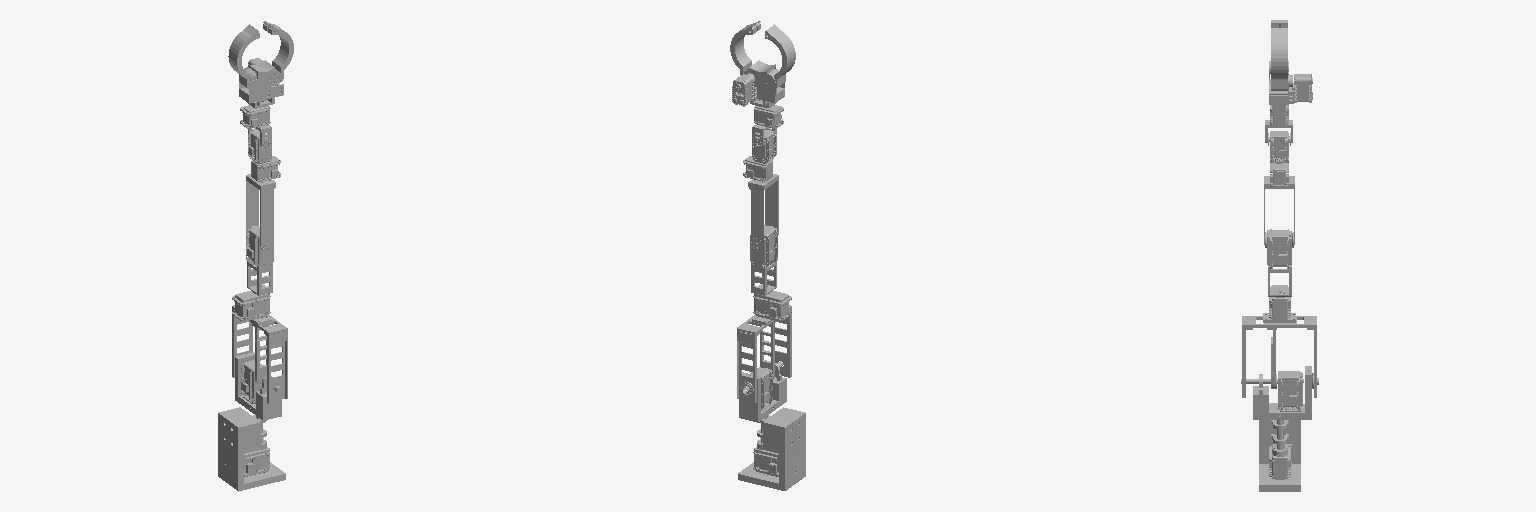
robot.urdf — finalarm_description:
<robot
  name="finalarm_description">
  <link
    name="base_link">
    <inertial>
      <origin
        xyz="-0.0350973236171887 2.50206915783369E-06 0.065743599294131"
        rpy="0 0 0" />
      <mass
        value="1.10920648420033" />
      <inertia
        ixx="0.00147297997205269"
        ixy="5.79000298723505E-08"
        ixz="0.000465603614160417"
        iyy="0.00175551330106355"
        iyz="8.3367086911193E-08"
        izz="0.000282540363613262" />
    </inertial>
    <visual>
      <origin
        xyz="0 0 0"
        rpy="0 0 0" />
      <geometry>
        <mesh
          filename="package://finalarm_description/meshes/base_link.STL" />
      </geometry>
      <material
        name="">
        <color
          rgba="0.752941176470588 0.752941176470588 0.752941176470588 1" />
      </material>
    </visual>
    <collision>
      <origin
        xyz="0 0 0"
        rpy="0 0 0" />
      <geometry>
        <mesh
          filename="package://finalarm_description/meshes/base_link.STL" />
      </geometry>
    </collision>
  </link>
  <link
    name="link_2">
    <inertial>
      <origin
        xyz="-6.93463695862484E-06 0.00621364138420952 -0.106231333331331"
        rpy="0 0 0" />
      <mass
        value="0.471538287399183" />
      <inertia
        ixx="0.000594636803033852"
        ixy="4.18367904578793E-08"
        ixz="2.84400874159916E-08"
        iyy="0.000252468984748607"
        iyz="0.000138585143141858"
        izz="0.000342180686752844" />
    </inertial>
    <visual>
      <origin
        xyz="0 0 0"
        rpy="0 0 0" />
      <geometry>
        <mesh
          filename="package://finalarm_description/meshes/link_2.STL" />
      </geometry>
      <material
        name="">
        <color
          rgba="0.752941176470588 0.752941176470588 0.752941176470588 1" />
      </material>
    </visual>
    <collision>
      <origin
        xyz="0 0 0"
        rpy="0 0 0" />
      <geometry>
        <mesh
          filename="package://finalarm_description/meshes/link_2.STL" />
      </geometry>
    </collision>
  </link>
  <joint
    name="joint_1"
    type="revolute">
    <origin
      xyz="0 0 0.0622"
      rpy="3.1416 0 3.1416" />
    <parent
      link="base_link" />
    <child
      link="link_2" />
    <axis
      xyz="0 0 1" />
    <limit
      lower="-3.14"
      upper="3.14"
      effort="0"
      velocity="0" />
  </joint>
  <link
    name="link_3">
    <inertial>
      <origin
        xyz="0.00793341258344955 -0.110904264599027 -0.00575400019431305"
        rpy="0 0 0" />
      <mass
        value="0.176545926561924" />
      <inertia
        ixx="0.000425424927691206"
        ixy="5.26272787508631E-05"
        ixz="2.58168360040485E-06"
        iyy="0.000154323835845121"
        iyz="-3.20603667204071E-06"
        izz="0.000292957292568659" />
    </inertial>
    <visual>
      <origin
        xyz="0 0 0"
        rpy="0 0 0" />
      <geometry>
        <mesh
          filename="package://finalarm_description/meshes/link_3.STL" />
      </geometry>
      <material
        name="">
        <color
          rgba="0.752941176470588 0.752941176470588 0.752941176470588 1" />
      </material>
    </visual>
    <collision>
      <origin
        xyz="0 0 0"
        rpy="0 0 0" />
      <geometry>
        <mesh
          filename="package://finalarm_description/meshes/link_3.STL" />
      </geometry>
    </collision>
  </link>
  <joint
    name="joint_2"
    type="revolute">
    <origin
      xyz="0 -0.00824 -0.14225"
      rpy="1.5708 0 0" />
    <parent
      link="link_2" />
    <child
      link="link_3" />
    <axis
      xyz="0 0 1" />
    <limit
      lower="-2.35"
      upper="2.35"
      effort="0"
      velocity="0" />
  </joint>
  <link
    name="link_4">
    <inertial>
      <origin
        xyz="-1.73545194991076E-06 3.75572226324616E-05 -0.0816772034389157"
        rpy="0 0 0" />
      <mass
        value="0.104087748544112" />
      <inertia
        ixx="6.93717063486783E-05"
        ixy="6.54701343252157E-12"
        ixz="-1.44623624646317E-08"
        iyy="6.93717016796198E-05"
        iyz="1.86949875679207E-08"
        izz="5.87170423433308E-09" />
    </inertial>
    <visual>
      <origin
        xyz="0 0 0"
        rpy="0 0 0" />
      <geometry>
        <mesh
          filename="package://finalarm_description/meshes/link_4.STL" />
      </geometry>
      <material
        name="">
        <color
          rgba="0.752941176470588 0.752941176470588 0.752941176470588 1" />
      </material>
    </visual>
    <collision>
      <origin
        xyz="0 0 0"
        rpy="0 0 0" />
      <geometry>
        <mesh
          filename="package://finalarm_description/meshes/link_4.STL" />
      </geometry>
    </collision>
  </link>
  <joint
    name="joint_3"
    type="revolute">
    <origin
      xyz="0 -0.1721 -0.00754"
      rpy="-1.5708 0 0" />
    <parent
      link="link_3" />
    <child
      link="link_4" />
    <axis
      xyz="0 0 1" />
    <limit
      lower="-3.14"
      upper="3.14"
      effort="0"
      velocity="0" />
  </joint>
  <link
    name="link_5">
    <inertial>
      <origin
        xyz="-0.00688423968276193 0.114612027416276 -0.000499999595380635"
        rpy="0 0 0" />
      <mass
        value="0.0763995324256172" />
      <inertia
        ixx="8.29546143352217E-05"
        ixy="1.14091706441386E-05"
        ixz="-1.59199761034349E-08"
        iyy="4.00141503682598E-06"
        iyz="-7.48281114065265E-13"
        izz="8.32476026046573E-05" />
    </inertial>
    <visual>
      <origin
        xyz="0 0 0"
        rpy="0 0 0" />
      <geometry>
        <mesh
          filename="package://finalarm_description/meshes/link_5.STL" />
      </geometry>
      <material
        name="">
        <color
          rgba="0.752941176470588 0.752941176470588 0.752941176470588 1" />
      </material>
    </visual>
    <collision>
      <origin
        xyz="0 0 0"
        rpy="0 0 0" />
      <geometry>
        <mesh
          filename="package://finalarm_description/meshes/link_5.STL" />
      </geometry>
    </collision>
  </link>
  <joint
    name="joint_4"
    type="revolute">
    <origin
      xyz="0 0 -0.11"
      rpy="-1.5708 0 0" />
    <parent
      link="link_4" />
    <child
      link="link_5" />
    <axis
      xyz="0 0 -1" />
    <limit
      lower="-2.6"
      upper="2.6"
      effort="0"
      velocity="0" />
  </joint>
  <link
    name="link_6">
    <inertial>
      <origin
        xyz="1.38984233255535E-05 -3.02219879037557E-05 -0.0318489971663578"
        rpy="0 0 0" />
      <mass
        value="0.0455105599924779" />
      <inertia
        ixx="1.81847622671867E-06"
        ixy="-1.91108318783744E-11"
        ixz="-1.66843283355986E-08"
        iyy="1.81917584885151E-06"
        iyz="-1.98071025204659E-09"
        izz="7.0394766986178E-10" />
    </inertial>
    <visual>
      <origin
        xyz="0 0 0"
        rpy="0 0 0" />
      <geometry>
        <mesh
          filename="package://finalarm_description/meshes/link_6.STL" />
      </geometry>
      <material
        name="">
        <color
          rgba="0.752941176470588 0.752941176470588 0.752941176470588 1" />
      </material>
    </visual>
    <collision>
      <origin
        xyz="0 0 0"
        rpy="0 0 0" />
      <geometry>
        <mesh
          filename="package://finalarm_description/meshes/link_6.STL" />
      </geometry>
    </collision>
  </link>
  <joint
    name="joint_5"
    type="revolute">
    <origin
      xyz="0 0.1566 -0.0005"
      rpy="-1.5708 0 3.1416" />
    <parent
      link="link_5" />
    <child
      link="link_6" />
    <axis
      xyz="0 0 1" />
    <limit
      lower="-3.14"
      upper="3.14"
      effort="0"
      velocity="0" />
  </joint>
  <link
    name="link_7">
    <inertial>
      <origin
        xyz="-0.00629355961550483 0.0442792267246015 0.000326216217654773"
        rpy="0 0 0" />
      <mass
        value="0.0556423949669392" />
      <inertia
        ixx="1.05130243025505E-05"
        ixy="2.33123833939753E-06"
        ixz="-2.66898357890617E-08"
        iyy="1.10674138275574E-06"
        iyz="1.86827301995486E-07"
        izz="1.05592545554182E-05" />
    </inertial>
    <visual>
      <origin
        xyz="0 0 0"
        rpy="0 0 0" />
      <geometry>
        <mesh
          filename="package://finalarm_description/meshes/link_7.STL" />
      </geometry>
      <material
        name="">
        <color
          rgba="0.752941176470588 0.752941176470588 0.752941176470588 1" />
      </material>
    </visual>
    <collision>
      <origin
        xyz="0 0 0"
        rpy="0 0 0" />
      <geometry>
        <mesh
          filename="package://finalarm_description/meshes/link_7.STL" />
      </geometry>
    </collision>
  </link>
  <joint
    name="joint_6"
    type="revolute">
    <origin
      xyz="0 0 -0.044805"
      rpy="-1.5708 0 0" />
    <parent
      link="link_6" />
    <child
      link="link_7" />
    <axis
      xyz="0 0 1" />
    <limit
      lower="-1.75"
      upper="1.75"
      effort="0"
      velocity="0" />
  </joint>
  <link
    name="link_8">
    <inertial>
      <origin
        xyz="0.000676098257304233 0.00129718102685669 -0.0321063764893514"
        rpy="0 0 0" />
      <mass
        value="0.0761324825533059" />
      <inertia
        ixx="5.51757264149968E-06"
        ixy="-7.81410502092211E-09"
        ixz="1.50349715571903E-07"
        iyy="5.50721823606219E-06"
        iyz="2.85360740313087E-07"
        izz="1.9358084038589E-08" />
    </inertial>
    <visual>
      <origin
        xyz="0 0 0"
        rpy="0 0 0" />
      <geometry>
        <mesh
          filename="package://finalarm_description/meshes/link_8.STL" />
      </geometry>
      <material
        name="">
        <color
          rgba="0.752941176470588 0.752941176470588 0.752941176470588 1" />
      </material>
    </visual>
    <collision>
      <origin
        xyz="0 0 0"
        rpy="0 0 0" />
      <geometry>
        <mesh
          filename="package://finalarm_description/meshes/link_8.STL" />
      </geometry>
    </collision>
  </link>
  <joint
    name="joint_7"
    type="revolute">
    <origin
      xyz="0.0035 0.068995 0.00025"
      rpy="-1.5708 0 3.1416" />
    <parent
      link="link_7" />
    <child
      link="link_8" />
    <axis
      xyz="0 0 1" />
    <limit
      lower="-3.14"
      upper="3.14"
      effort="0"
      velocity="0" />
  </joint>
  <link
    name="link_9">
    <inertial>
      <origin
        xyz="0.0330748692850015 -0.0156609082500656 -0.000838888003525384"
        rpy="0 0 0" />
      <mass
        value="0.0633522380056329" />
      <inertia
        ixx="0"
        ixy="0"
        ixz="0"
        iyy="0"
        iyz="0"
        izz="0" />
    </inertial>
    <visual>
      <origin
        xyz="0 0 0"
        rpy="0 0 0" />
      <geometry>
        <mesh
          filename="package://finalarm_description/meshes/link_9.STL" />
      </geometry>
      <material
        name="">
        <color
          rgba="0.752941176470588 0.752941176470588 0.752941176470588 1" />
      </material>
    </visual>
    <collision>
      <origin
        xyz="0 0 0"
        rpy="0 0 0" />
      <geometry>
        <mesh
          filename="package://finalarm_description/meshes/link_9.STL" />
      </geometry>
    </collision>
  </link>
  <joint
    name="joint_8"
    type="revolute">
    <origin
      xyz="-0.0174 0 -0.057005"
      rpy="1.5708 1.5708 0" />
    <parent
      link="link_8" />
    <child
      link="link_9" />
    <axis
      xyz="0 0 1" />
    <limit
      lower="-3.14"
      upper="3.14"
      effort="0"
      velocity="0" />
  </joint>
  <link
    name="link_10">
    <inertial>
      <origin
        xyz="0.0338709492936103 0.0160630015014153 -0.000269069197496835"
        rpy="0 0 0" />
      <mass
        value="0.0618364235211619" />
      <inertia
        ixx="0"
        ixy="0"
        ixz="0"
        iyy="0"
        iyz="0"
        izz="0" />
    </inertial>
    <visual>
      <origin
        xyz="0 0 0"
        rpy="0 0 0" />
      <geometry>
        <mesh
          filename="package://finalarm_description/meshes/link_10.STL" />
      </geometry>
      <material
        name="">
        <color
          rgba="0.752941176470588 0.752941176470588 0.752941176470588 1" />
      </material>
    </visual>
    <collision>
      <origin
        xyz="0 0 0"
        rpy="0 0 0" />
      <geometry>
        <mesh
          filename="package://finalarm_description/meshes/link_10.STL" />
      </geometry>
    </collision>
  </link>
  <joint
    name="joint_9"
    type="revolute">
    <origin
      xyz="0.0186 0 -0.056505"
      rpy="1.5708 1.5708 0" />
    <parent
      link="link_8" />
    <child
      link="link_10" />
    <axis
      xyz="0 0 1" />
    <limit
      lower="-3.14"
      upper="3.14"
      effort="0"
      velocity="0" />
  </joint>
  <link
    name="link_eef" />
  <joint
    name="joint_eef"
    type="fixed">
    <origin
      xyz="0 0 -0.15225"
      rpy="3.1416 0 3.1416" />
    <parent
      link="link_8" />
    <child
      link="link_eef" />
    <axis
      xyz="0 0 0" />
  </joint>
</robot>

--- Render facts (derived) ---
The picture shows the robot from 3 angles, left to right: view 1: azimuth 30°, elevation 25°; view 2: azimuth 150°, elevation 25°; view 3: azimuth 270°, elevation 25°; orthographic projection.
Robot: finalarm_description — 11 links, 10 joints (9 revolute, 1 fixed); root link base_link; default pose: every joint at zero.
Visible links, largest first — view 1: base_link, link_3, link_5, link_2, link_4, link_8, link_10, link_9, link_7, link_6; view 2: base_link, link_3, link_5, link_2, link_8, link_4, link_10, link_7, link_9, link_6; view 3: base_link, link_2, link_3, link_4, link_9, link_8, link_5, link_6, link_7.
Link boxes in pixels (x1,y1,x2,y2): base_link: [218, 407, 285, 491]; link_3: [232, 291, 287, 403]; link_5: [246, 156, 280, 249]; link_2: [235, 352, 281, 449]; link_4: [246, 226, 273, 295]; link_8: [239, 58, 283, 108]; link_10: [228, 24, 259, 88]; link_9: [263, 21, 293, 85]; link_7: [240, 105, 271, 148]; link_6: [248, 130, 271, 163]; base_link: [738, 407, 805, 490]; link_3: [737, 291, 791, 402]; link_5: [743, 156, 778, 249]; link_2: [739, 363, 786, 449]; link_8: [732, 60, 784, 107]; link_4: [750, 225, 777, 295]; link_10: [765, 24, 795, 87]; link_7: [752, 105, 783, 148]; link_9: [730, 21, 760, 83]; link_6: [752, 130, 776, 163]; base_link: [1259, 403, 1300, 491]; link_2: [1253, 366, 1318, 456]; link_3: [1241, 285, 1316, 397]; link_4: [1267, 229, 1291, 297]; link_9: [1271, 28, 1290, 90]; link_8: [1269, 61, 1312, 108]; link_5: [1264, 163, 1294, 247]; link_6: [1270, 131, 1288, 163]; link_7: [1265, 105, 1292, 145].
Size in the robot's own frame: 0.1311 by 0.1413 by 0.9205 metres.
10 mesh visuals loaded from 10 distinct referenced files (10 binary STL).
